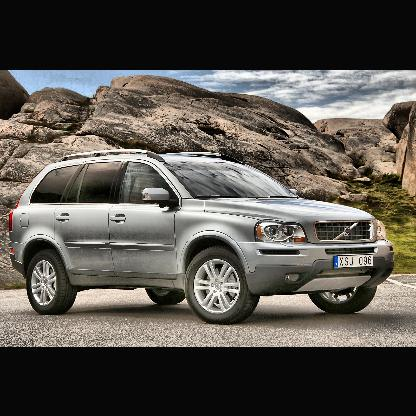Volvo XC90 SUV 2007: (9, 150, 394, 323)
